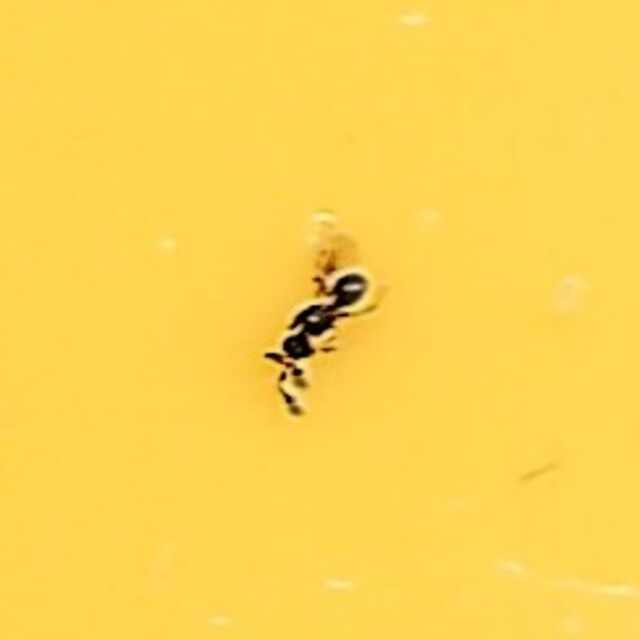Hymenoptera: (262, 228, 378, 412)
